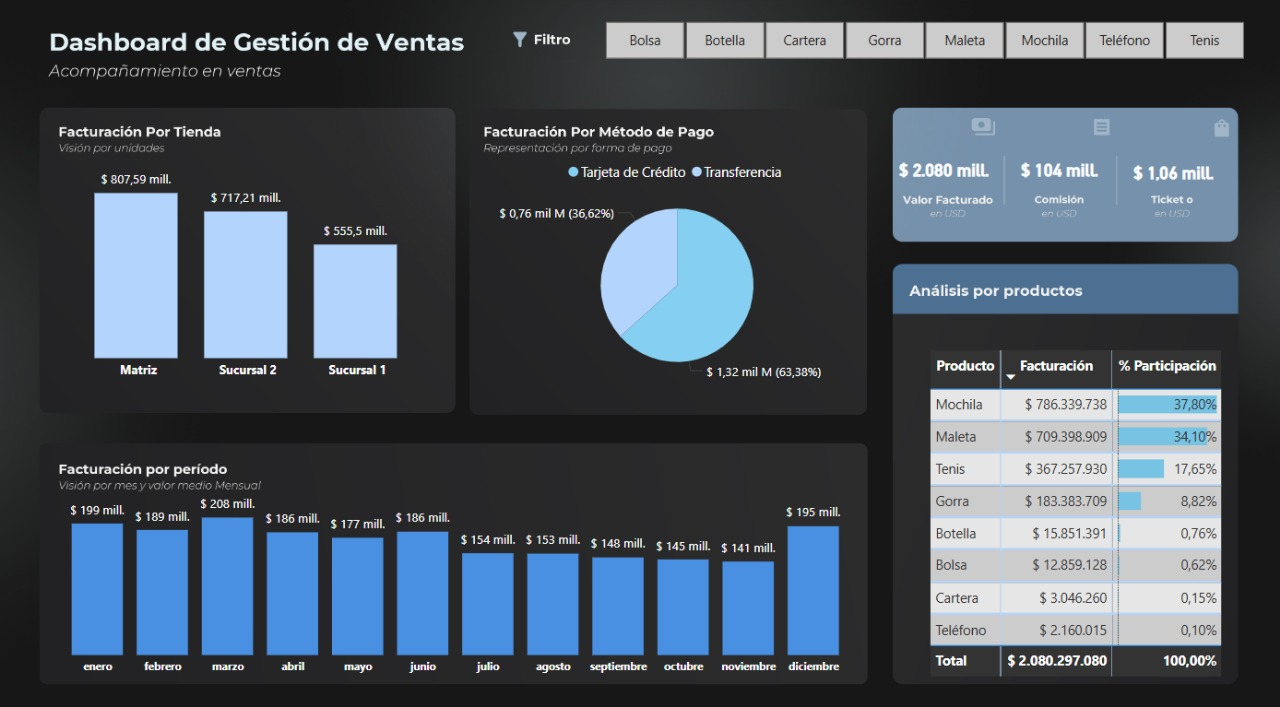

The dashboard page shown, as its layout file describes it:
{"tool":"powerbi","page":{"name":"Página 1","canvas":[1280,720],"ordinal":0},"visuals":[{"type":"card","fields":{"Values":["Sum(Ventas.Facturación)"]},"box":[878.3,134.2,127.3,80.2],"z":0},{"type":"card","fields":{"Values":["Avg(Ventas.Facturación)"]},"box":[1110.7,138.3,117.6,76.1],"z":1000},{"type":"clusteredColumnChart","title":"Facturación Por Periodo","fields":{"Category":["Ventas.Fecha Pedido.Variación.Jerarquía de fechas.Mes"],"Y":["Sum(Ventas.Facturación)"]},"box":[44.3,480,824.4,204.7],"z":2000},{"type":"pieChart","title":"Facturación Por Método De Pago","fields":{"Y":["Sum(Ventas.Facturación)"],"Category":["Ventas.Medio de pago"]},"box":[474.4,154.9,403.9,236.5],"z":3000},{"type":"clusteredColumnChart","title":"Facturación Por Tienda","fields":{"Y":["Sum(Ventas.Facturación)"],"Category":["Tiendas.nombre_tienda"]},"box":[49.8,156.3,402.5,235.1],"z":4000},{"type":"tableEx","fields":{"Values":["Ventas.Producto","Sum(Ventas.Facturación)","Divide(Sum(Ventas.Facturación), ScopedEval(Sum(Ventas.Facturación), []))"]},"box":[922.6,347.2,311.2,337.5],"z":5000},{"type":"slicer","fields":{"Values":["Ventas.Producto"]},"box":[580.9,19.4,683.3,49.8],"z":7000},{"type":"card","fields":{"Values":["Ventas.Comisión"]},"box":[979.3,124.5,153.5,101],"z":8000}]}

Visuals, with their boxes in screenshot pixels (x1, y1, x2, y2), scaled from the page's 1280x720 canvas onto the 1280x707 screenshot:
card - Sum(Ventas.Facturación): bbox=[878, 132, 1006, 211]
card - Avg(Ventas.Facturación): bbox=[1111, 136, 1228, 211]
"Facturación Por Periodo" clusteredColumnChart: bbox=[44, 471, 869, 672]
"Facturación Por Método De Pago" pieChart: bbox=[474, 152, 878, 384]
"Facturación Por Tienda" clusteredColumnChart: bbox=[50, 153, 452, 384]
tableEx - Ventas.Producto x Sum(Ventas.Facturación): bbox=[923, 341, 1234, 672]
slicer - Ventas.Producto: bbox=[581, 19, 1264, 68]
card - Ventas.Comisión: bbox=[979, 122, 1133, 221]
